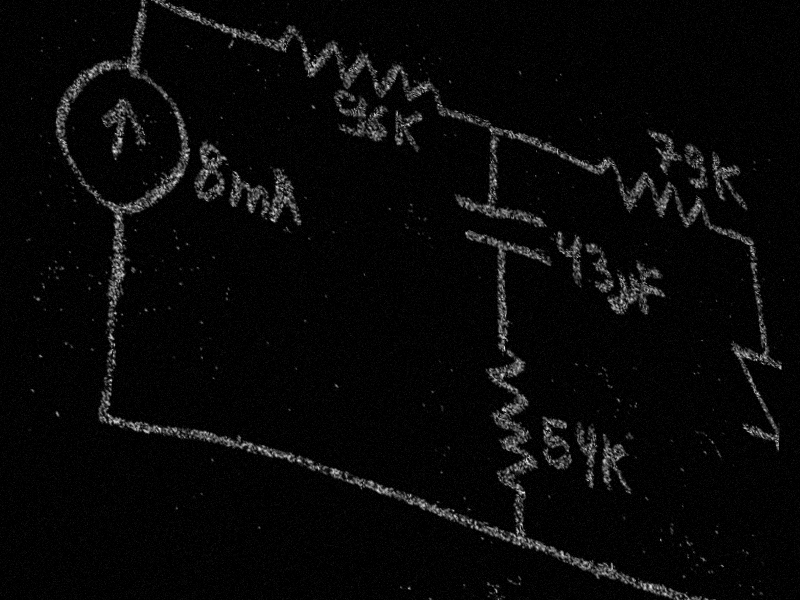3: (581, 238, 618, 301)
4: (551, 223, 590, 294), (571, 416, 605, 496)
5: (536, 409, 576, 479)
6: (365, 97, 390, 150)
7: (643, 124, 687, 183)
8: (192, 135, 229, 211)
9: (331, 85, 369, 145), (678, 140, 713, 195)
A: (269, 165, 303, 236)
F: (632, 258, 671, 323)
k: (705, 148, 752, 213), (597, 430, 635, 501), (391, 102, 425, 158)
m: (226, 167, 271, 225)
u: (611, 266, 643, 321)
